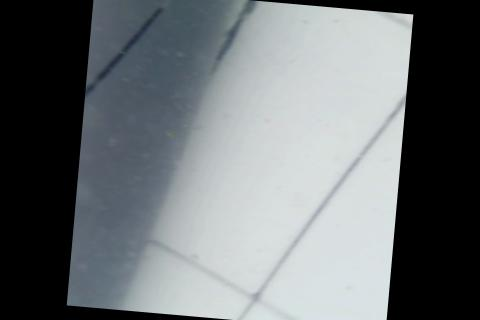keretakan: (85, 0, 159, 101)
